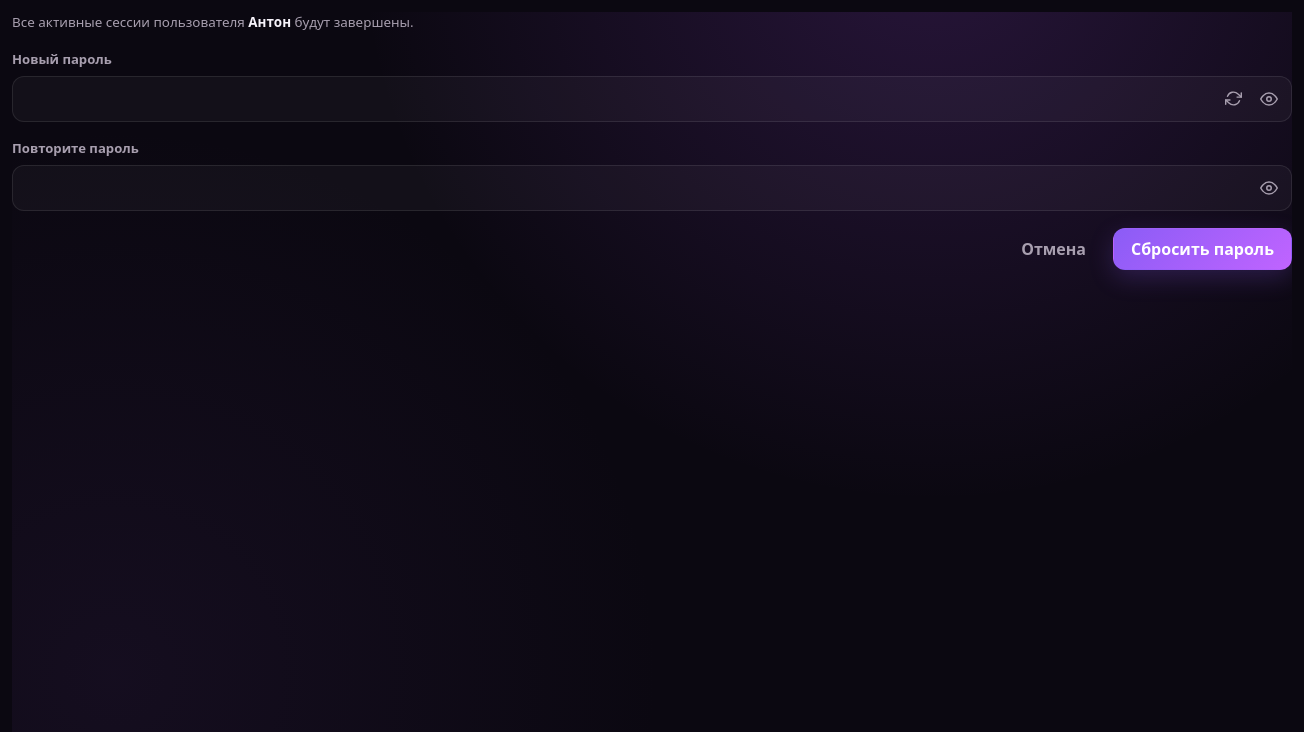
Test: ResetPasswordForm › generates the same visible password for both fields
Click the button named "Сгенерировать пароль" at (1233, 99), box left=1216, top=82, right=1250, bottom=116
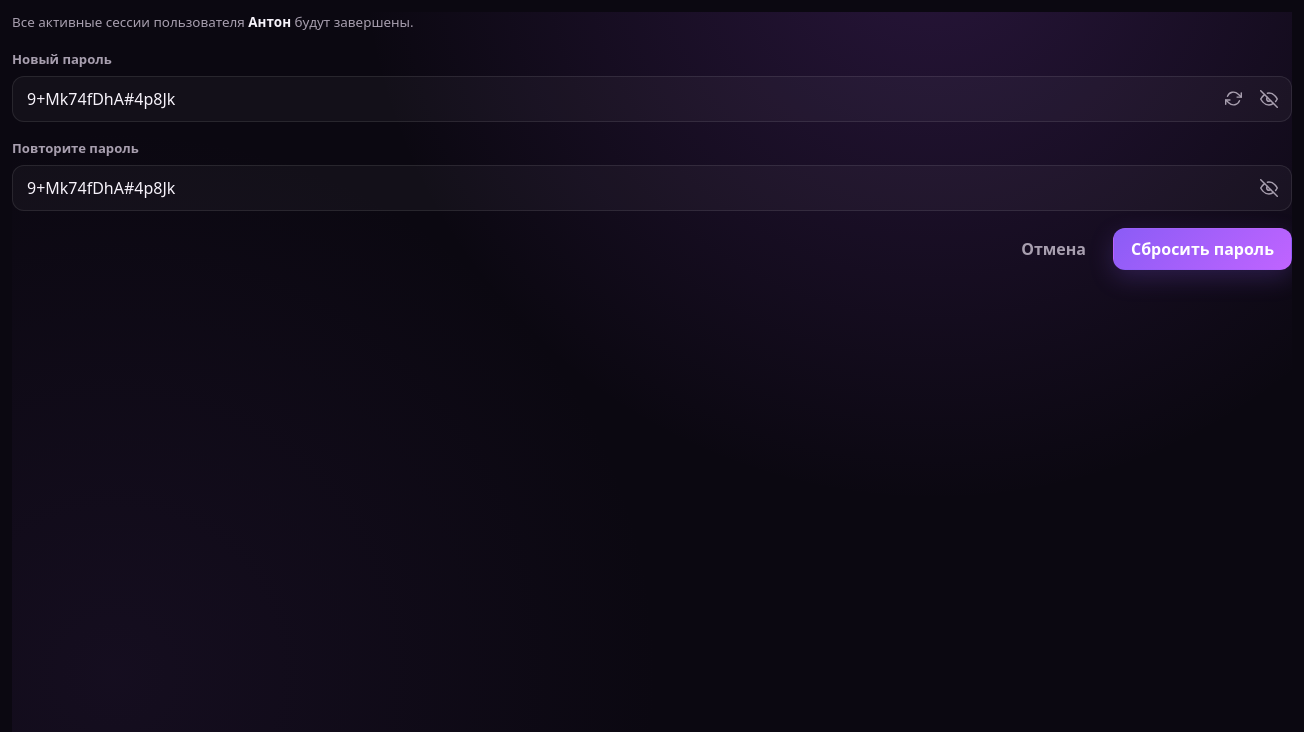
Expected: the field labelled "Новый пароль" is not empty, left=12, top=76, right=1292, bottom=122
Expected: the field labelled "Новый пароль" shows its text, left=12, top=76, right=1292, bottom=122
Expected: the field labelled "Повторите пароль" shows its text, left=12, top=165, right=1292, bottom=211
